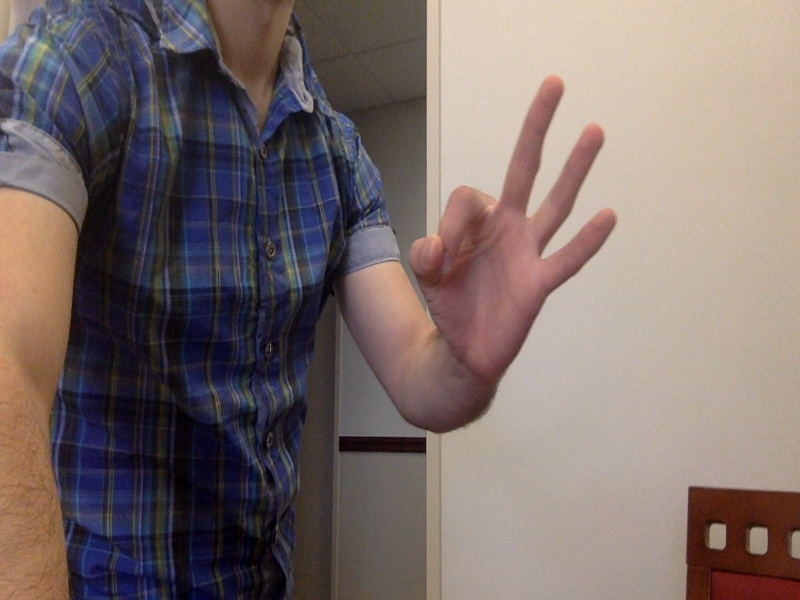3-hand: (406, 77, 618, 385)
